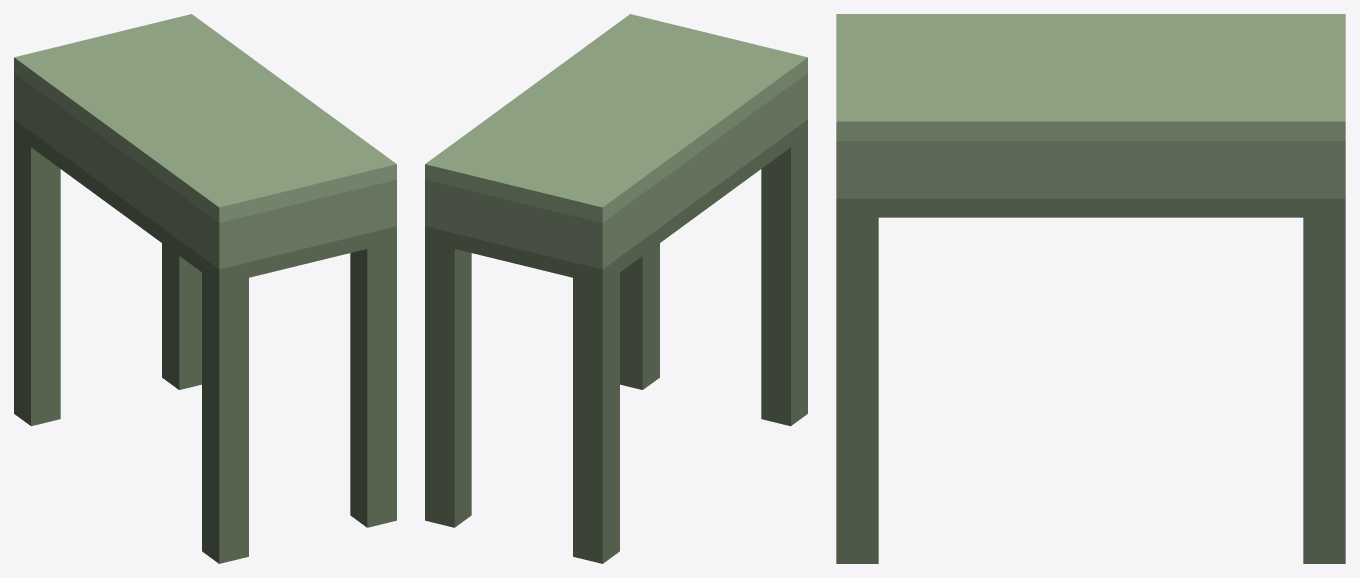
Rendered from bancada_cultivo_01.glb.
3 renders of one model, left to right at view 1: azimuth 30°, elevation 25°; view 2: azimuth 150°, elevation 25°; view 3: azimuth 270°, elevation 25°, orthographic. The views are drawn at different scales.
Parts seen in each view (by area): view 1: bancada_cultivo; view 2: bancada_cultivo; view 3: bancada_cultivo.
Boxes of the visible parts, <box> form: bancada_cultivo: <box>14,14,396,563</box>; bancada_cultivo: <box>425,14,807,563</box>; bancada_cultivo: <box>836,14,1345,563</box>.
Bounding box in the file's own units: 1 × 1.92 × 2.
